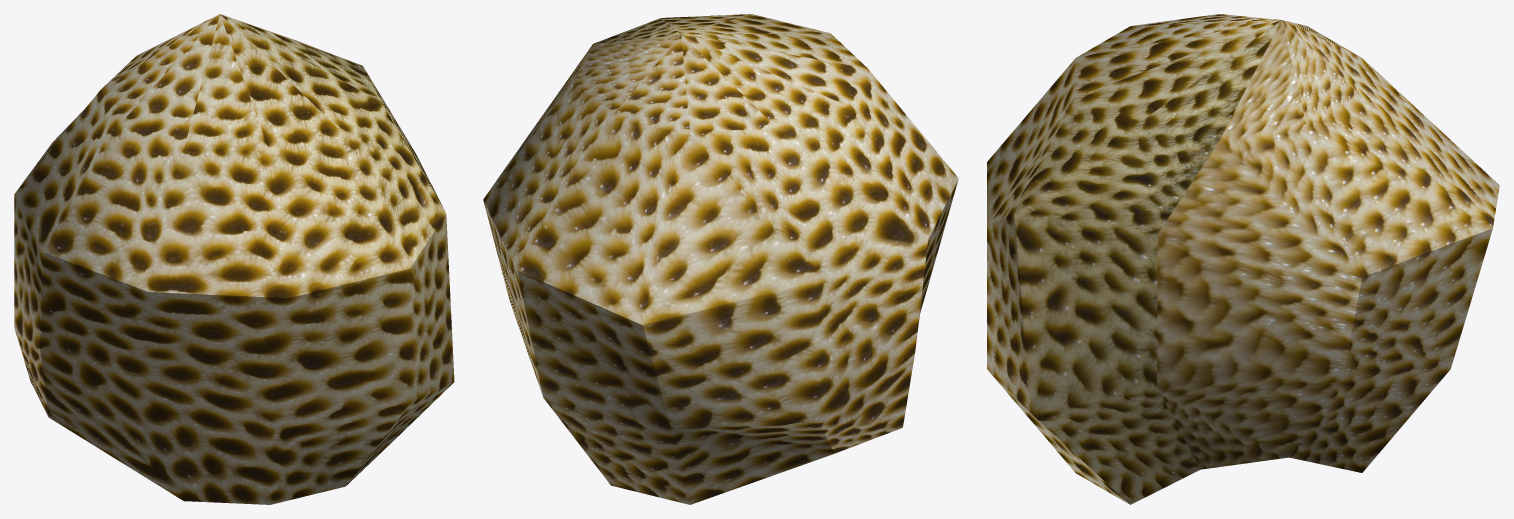
Rendered from rock 2.fbx.
The picture shows the model from 3 angles, left to right: view 1: azimuth 30°, elevation 25°; view 2: azimuth 150°, elevation 25°; view 3: azimuth 270°, elevation 25°; orthographic projection. The views are drawn at different scales.
Parts seen in each view (by area): view 1: Sphere_1; view 2: Sphere_1; view 3: Sphere_1.
Boxes of the visible parts, x1=… form: Sphere_1: x1=14, y1=14, x2=454, y2=504; Sphere_1: x1=483, y1=14, x2=958, y2=504; Sphere_1: x1=987, y1=14, x2=1499, y2=504.
Bounding box in the file's own units: 172 × 189 × 200.
1 material, 1 textured.
